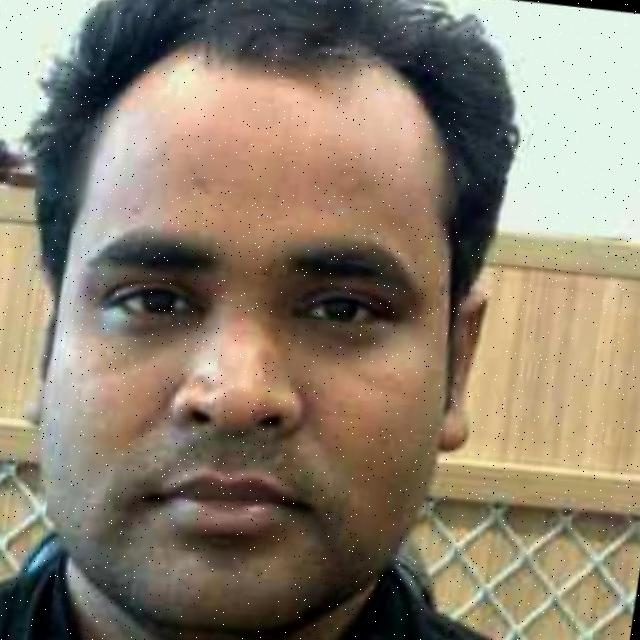puffy_eyes: (107, 307, 199, 336)
